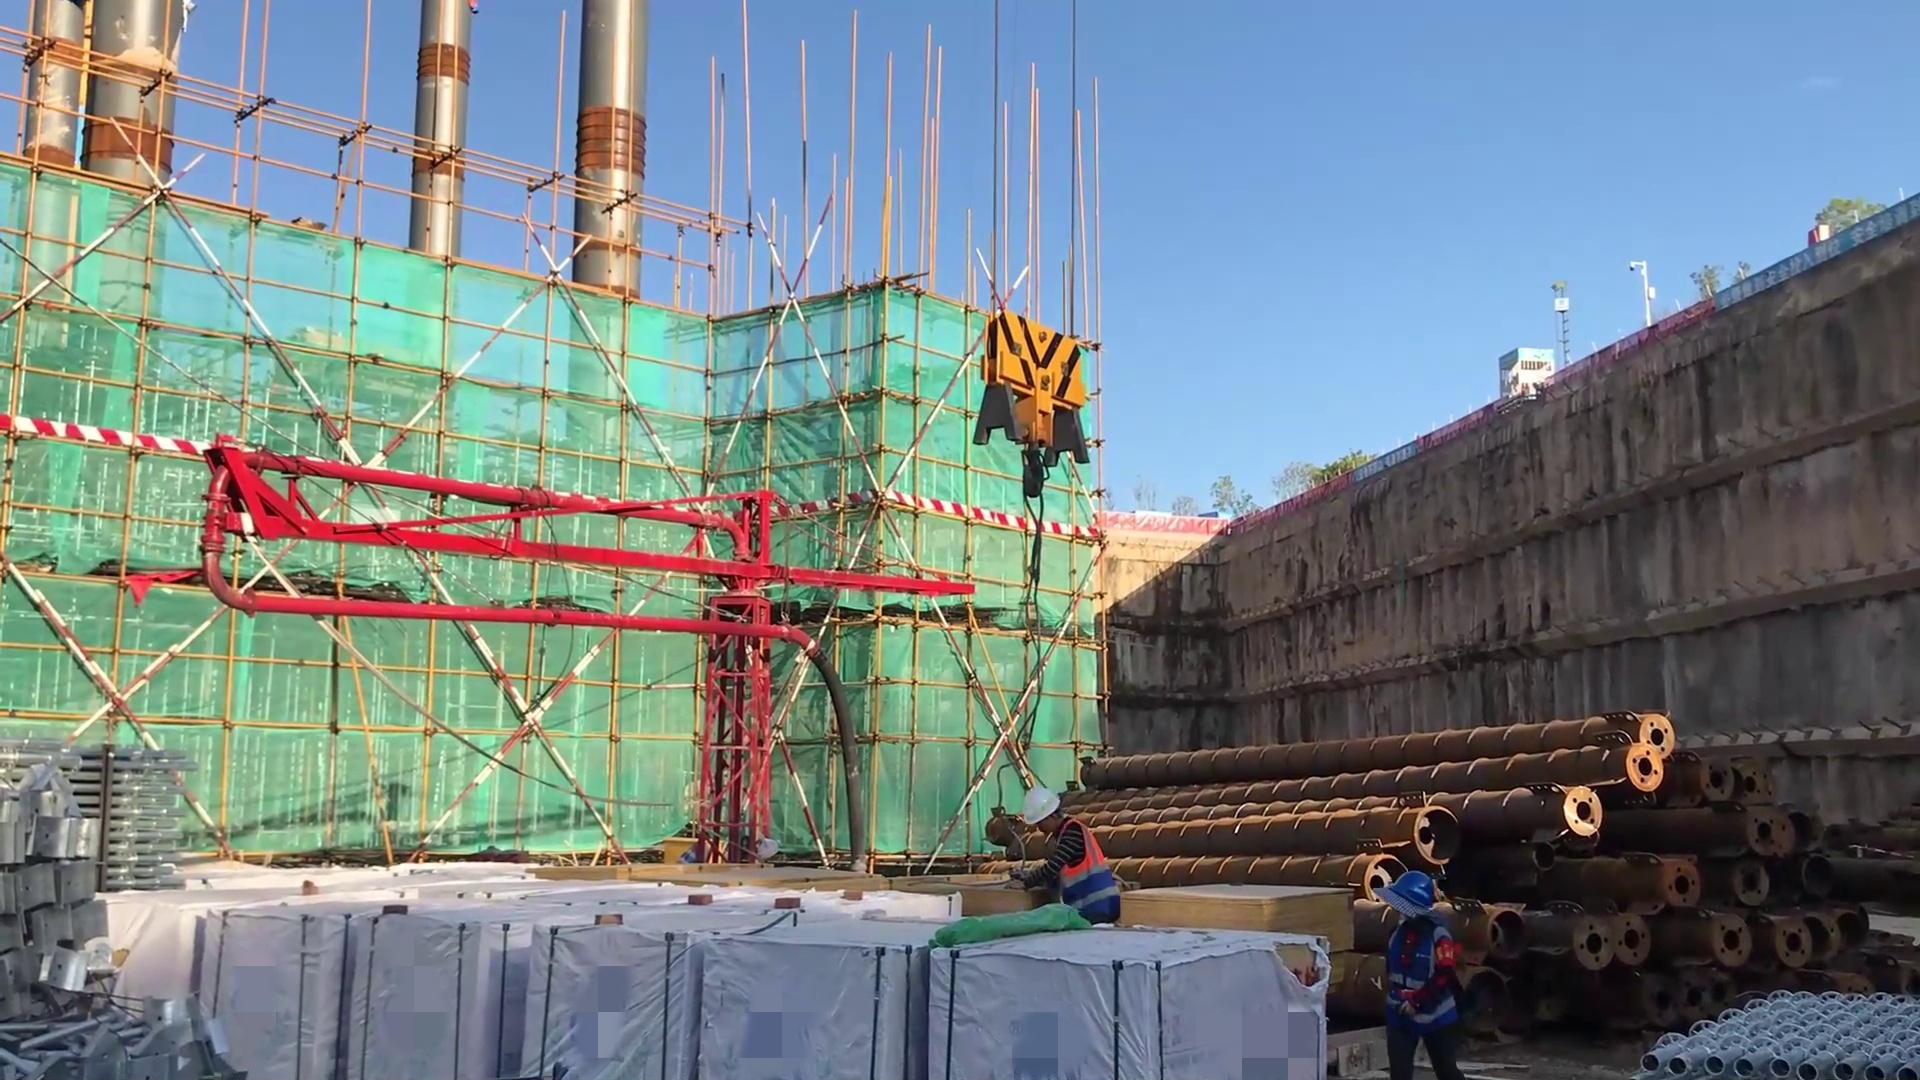board: (1125, 879, 1352, 972)
ebox: (658, 820, 729, 877)
helmet: (1373, 860, 1450, 933), (1016, 785, 1071, 836)
hook: (947, 316, 1115, 541)
person: (989, 785, 1145, 963), (1359, 864, 1466, 1080)
scaffold: (1640, 974, 1920, 1077), (55, 720, 200, 902)
slogan: (1712, 200, 1920, 310), (1354, 430, 1425, 492)
vest: (1373, 919, 1464, 1046), (1037, 822, 1125, 925)
